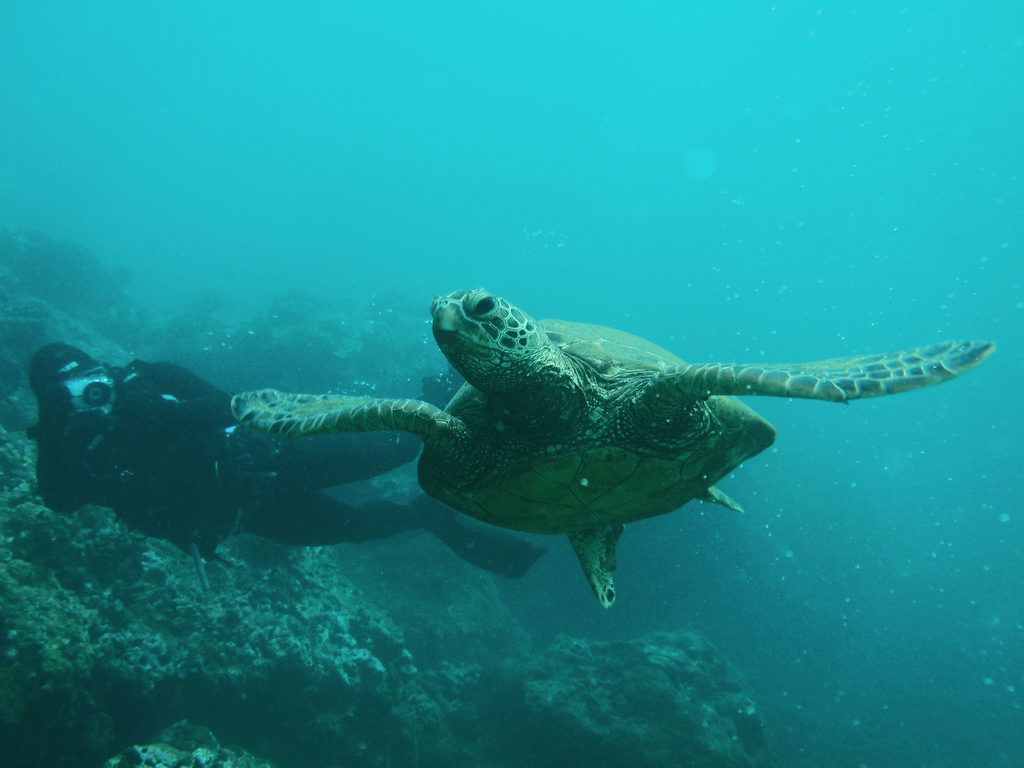Sea turtles: (229, 282, 995, 609)
